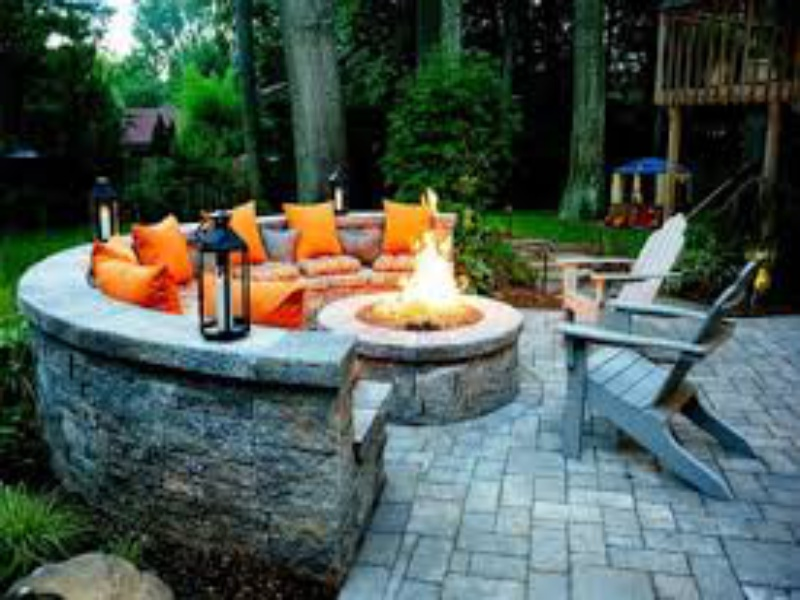fire: (402, 241, 458, 310)
